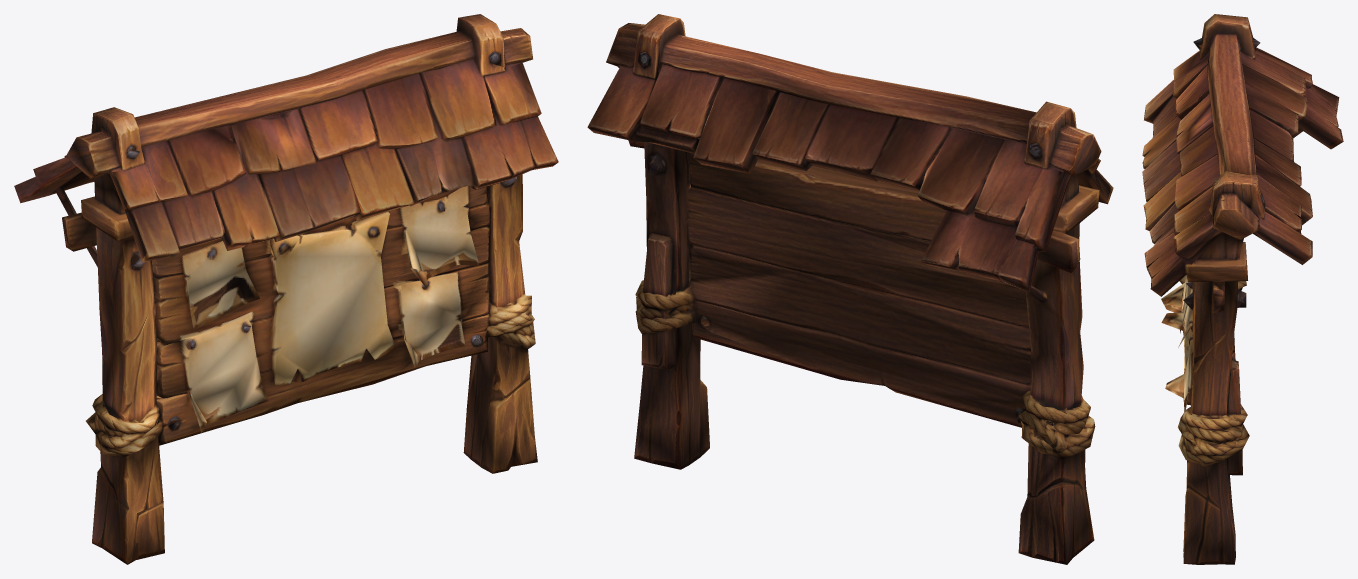
The model's file is notice-board-v2-lod.glb.
The picture shows the model from 3 angles, left to right: view 1: azimuth 30°, elevation 25°; view 2: azimuth 150°, elevation 25°; view 3: azimuth 270°, elevation 25°; orthographic projection. The views are drawn at different scales.
Visible parts, largest first — view 1: tripo_node_dccbc77a-4381-4e35-ab4f-065c00020ed0; view 2: tripo_node_dccbc77a-4381-4e35-ab4f-065c00020ed0; view 3: tripo_node_dccbc77a-4381-4e35-ab4f-065c00020ed0.
Boxes of the visible parts, box(x1,y1,x2,y2) form: tripo_node_dccbc77a-4381-4e35-ab4f-065c00020ed0: box(14, 14, 558, 564); tripo_node_dccbc77a-4381-4e35-ab4f-065c00020ed0: box(587, 14, 1113, 564); tripo_node_dccbc77a-4381-4e35-ab4f-065c00020ed0: box(1142, 14, 1343, 564).
Size of the model in its own units: 0.9787 by 0.886 by 0.4265.
Materials: 1 (1 with a texture image).
